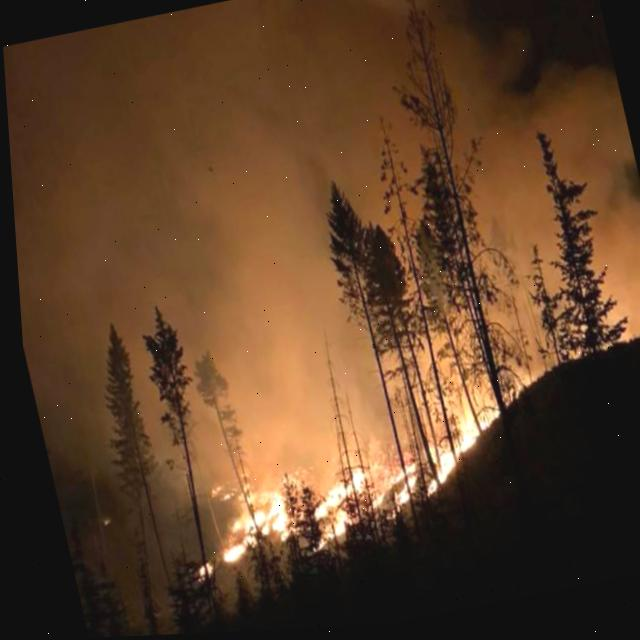smoke: (3, 0, 640, 637)
